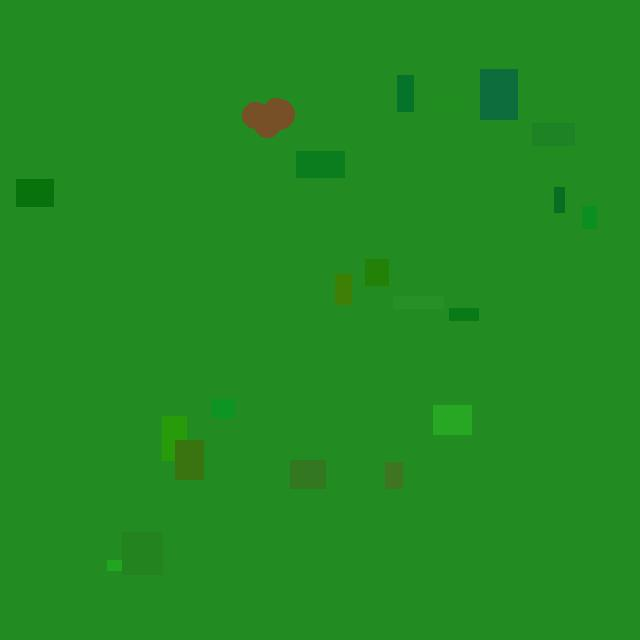pest_damage: (244, 86, 286, 144)
